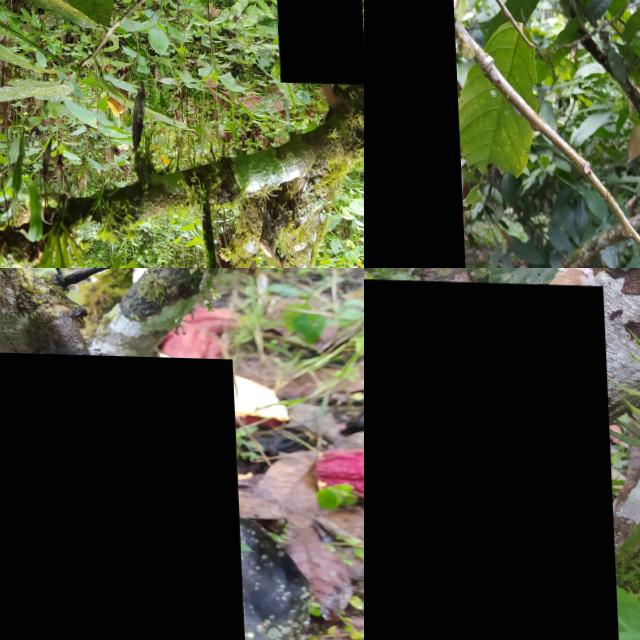Fitoftora: (0, 351, 244, 640)
Monilia: (364, 276, 615, 640), (364, 0, 470, 268), (267, 0, 362, 81)
